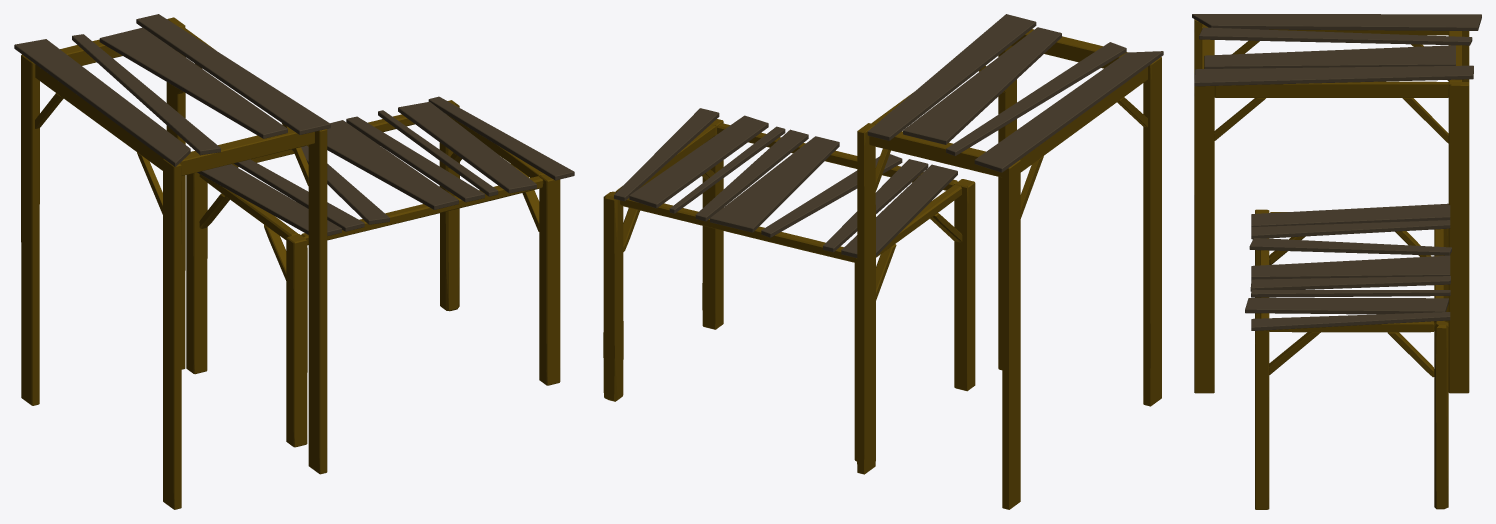
Rendered from Timber_Scaffolding_3.fbx.
The picture shows the model from 3 angles, left to right: view 1: azimuth 30°, elevation 25°; view 2: azimuth 150°, elevation 25°; view 3: azimuth 270°, elevation 25°; orthographic projection. The views are drawn at different scales.
Parts seen in each view (by area): view 1: prop_scaffolding_big_planks_geo_1; view 2: prop_scaffolding_big_planks_geo_1; view 3: prop_scaffolding_big_planks_geo_1.
Part boxes in pixels (left/top/right/bottom): prop_scaffolding_big_planks_geo_1: left=14, top=14, right=574, bottom=509; prop_scaffolding_big_planks_geo_1: left=603, top=14, right=1163, bottom=509; prop_scaffolding_big_planks_geo_1: left=1192, top=14, right=1481, bottom=509.
Bounding box in the file's own units: 326 × 251 × 211.
